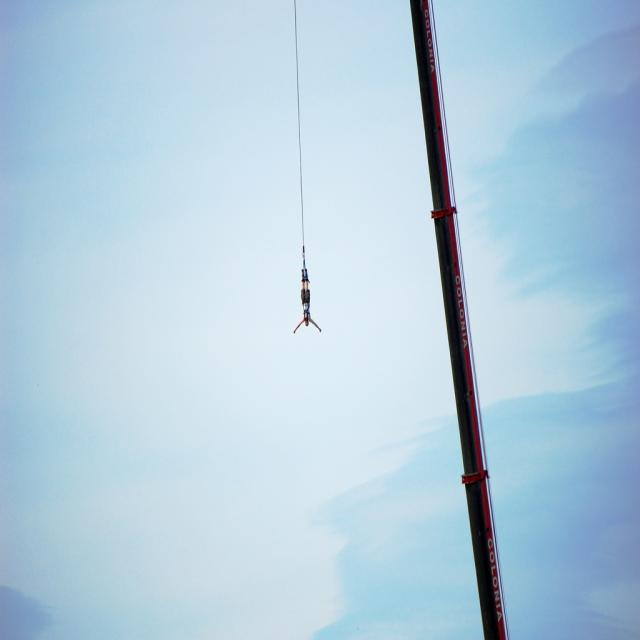Person: (294, 268, 322, 334)
